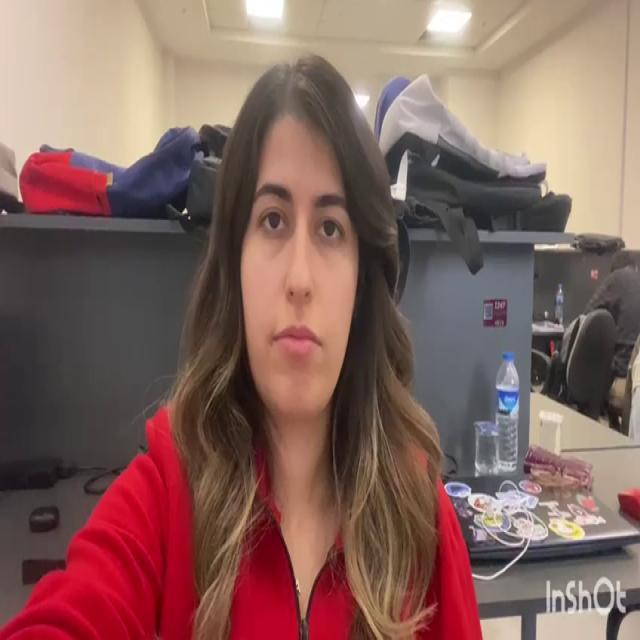natural: (238, 112, 360, 417)
